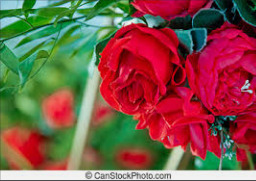RedRose: (89, 20, 182, 115)
